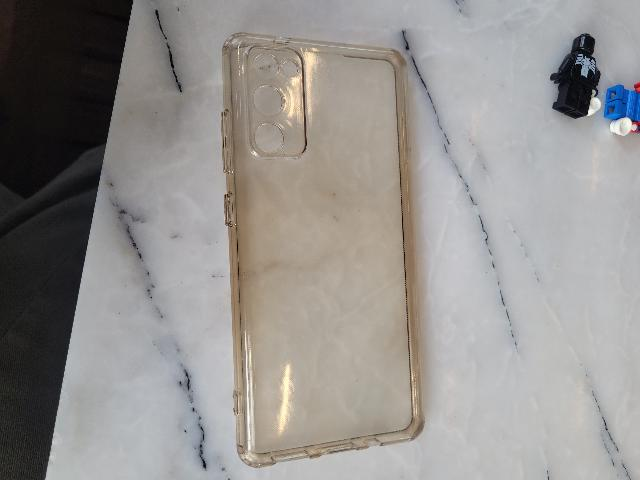Plastik: (213, 21, 428, 466)
